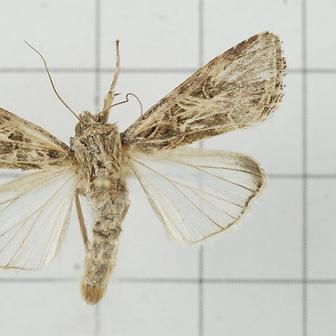Spodoptera litura: (1, 31, 286, 305)
